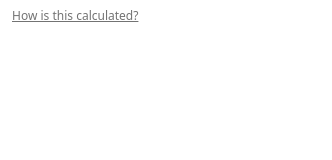
CashFlowExplainer › clicking the link fetches and shows the explanation
Click the button "How is this calculated?": click(75, 16) [12, 8, 138, 24]
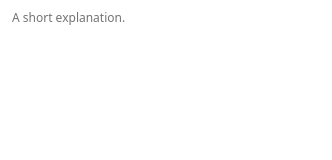
Now the text "A short explanation." is shown, box [12, 9, 125, 26]
